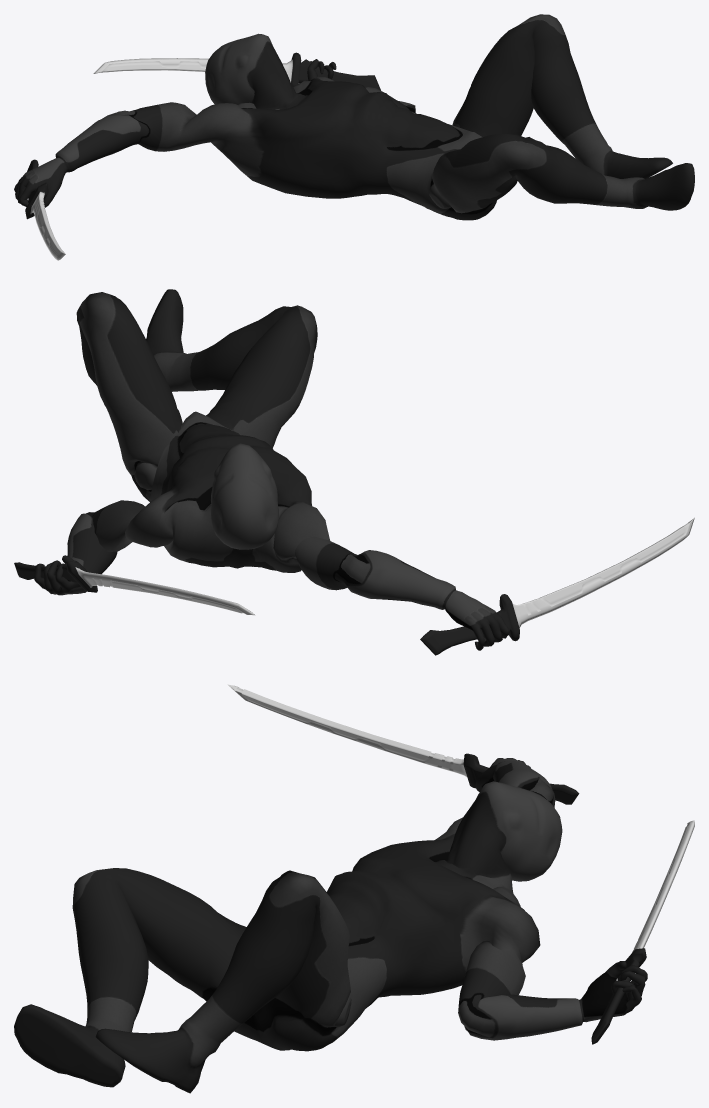
The picture shows the model from 3 angles, top to bottom: view 1: azimuth 30°, elevation 25°; view 2: azimuth 150°, elevation 25°; view 3: azimuth 270°, elevation 25°; orthographic projection. The views are drawn at different scales.
Visible parts, largest first — view 1: Cyborg_Ninja_Killer, Sword_l, Sword_l001; view 2: Cyborg_Ninja_Killer, Sword_l001, Sword_l; view 3: Cyborg_Ninja_Killer, Sword_l001, Sword_l.
Part boxes in pixels (x1,y1,x2,y2): Cyborg_Ninja_Killer: (14, 14, 694, 220); Sword_l: (93, 52, 380, 90); Sword_l001: (25, 159, 65, 260); Cyborg_Ninja_Killer: (34, 289, 509, 650); Sword_l001: (420, 517, 694, 655); Sword_l: (14, 561, 255, 615); Cyborg_Ninja_Killer: (14, 758, 647, 1093); Sword_l001: (227, 684, 579, 804); Sword_l: (591, 820, 694, 1044).
Size of the model in its own units: 191 by 56.58 by 156.
Materials: 2 (2 with a texture image).
